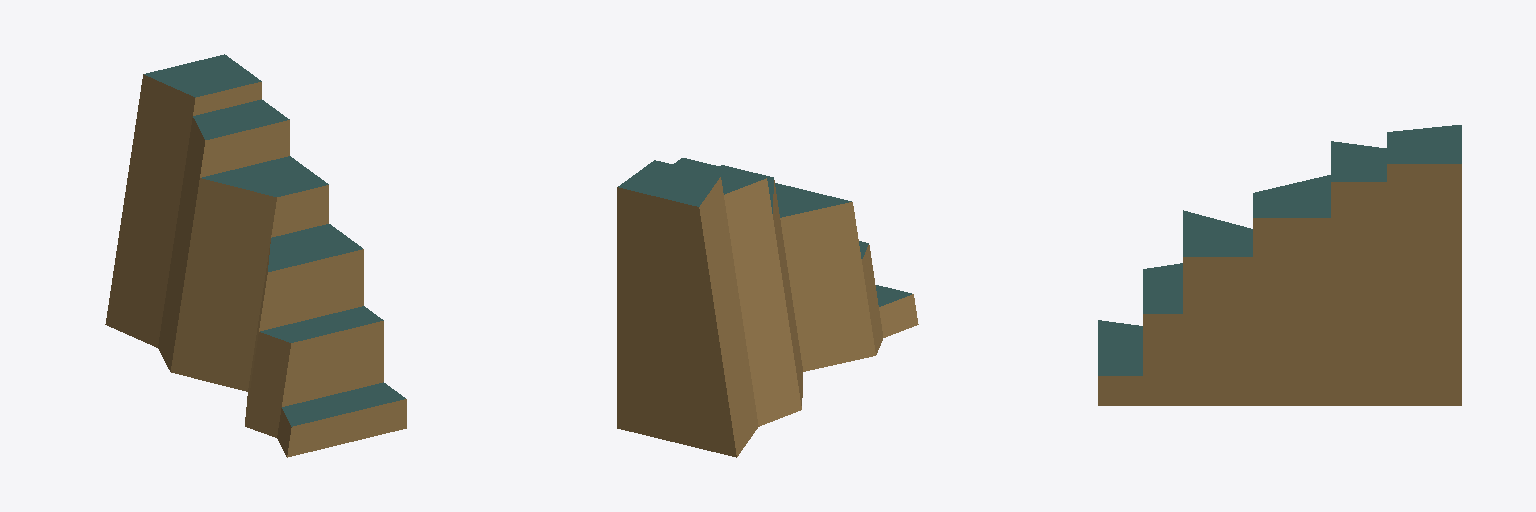
The model's file is Brown_Cliff_End_Green_Top_01.obj.
The picture shows the model from 3 angles: view 1: azimuth 30°, elevation 25°; view 2: azimuth 150°, elevation 25°; view 3: azimuth 270°, elevation 25°; orthographic projection.
Visible parts, largest first — view 1: Mesh1_Brown_Cliff_End_Green_Top_Model; view 2: Mesh1_Brown_Cliff_End_Green_Top_Model; view 3: Mesh1_Brown_Cliff_End_Green_Top_Model.
Part boxes in pixels (bbox=[...]): Mesh1_Brown_Cliff_End_Green_Top_Model: bbox=[105, 54, 406, 457]; Mesh1_Brown_Cliff_End_Green_Top_Model: bbox=[617, 158, 918, 457]; Mesh1_Brown_Cliff_End_Green_Top_Model: bbox=[1098, 125, 1461, 405].
Bounding box in the file's own units: 1.14 × 2.2 × 3.